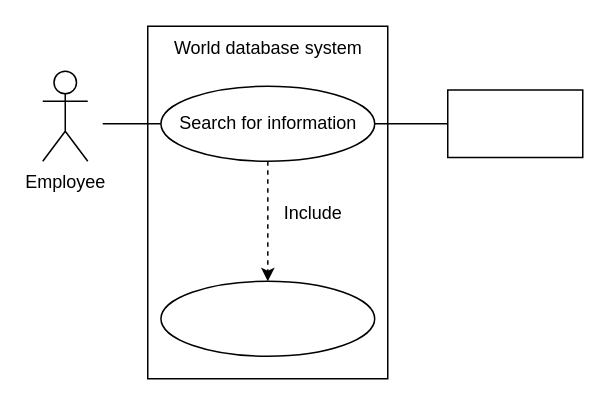
This 609x405 diagram has some shape labels left out. The centre of each missing label's shape, as x and y in pixels:
Database: point (514, 123)
Print information: point (267, 318)
